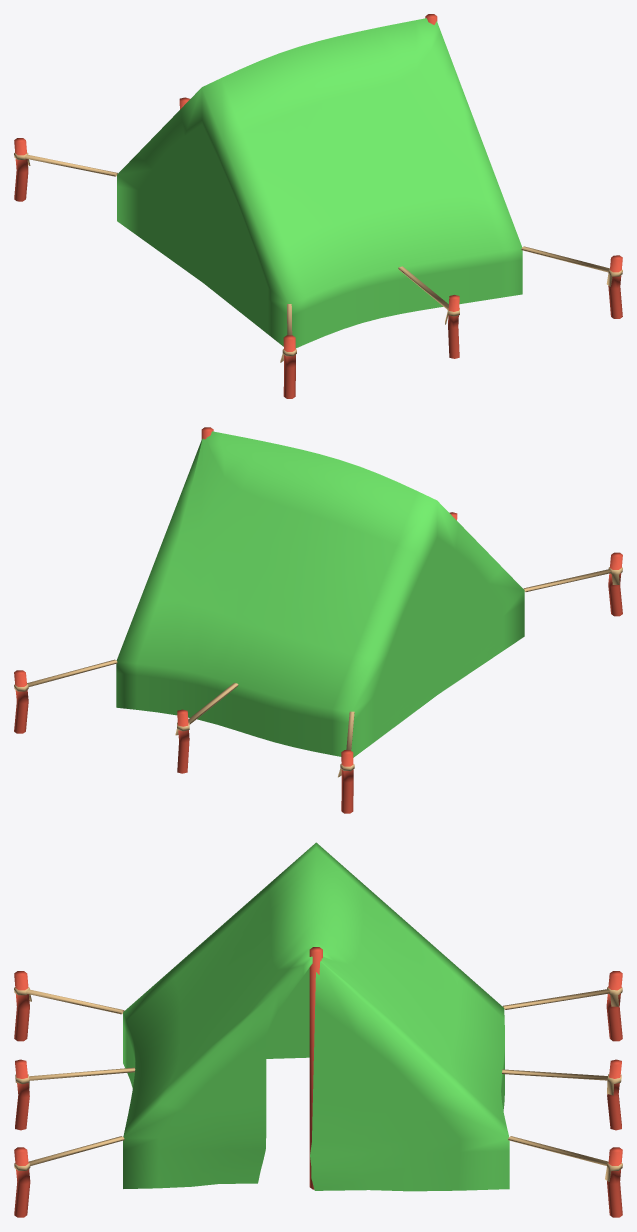
The model's file is Tent_Mesh.fbx.
3 views of the same model, one above another, from view 1: azimuth 30°, elevation 25°; view 2: azimuth 150°, elevation 25°; view 3: azimuth 270°, elevation 25° (orthographic). The views are drawn at different scales.
Visible parts, largest first — view 1: Tent; view 2: Tent; view 3: Tent.
Boxes of the visible parts, <box> form: Tent: <box>14,14,622,398</box>; Tent: <box>14,427,622,813</box>; Tent: <box>14,842,622,1217</box>.
Size of the model in its own units: 409 by 291 by 179.
